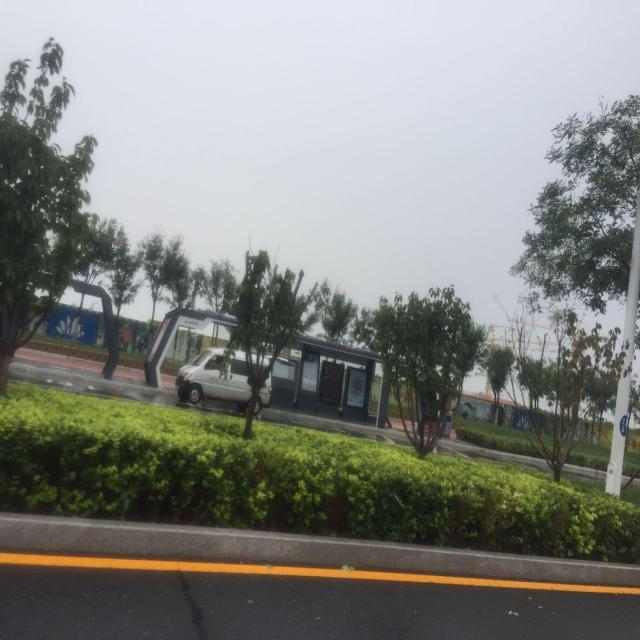car: (174, 344, 272, 412)
